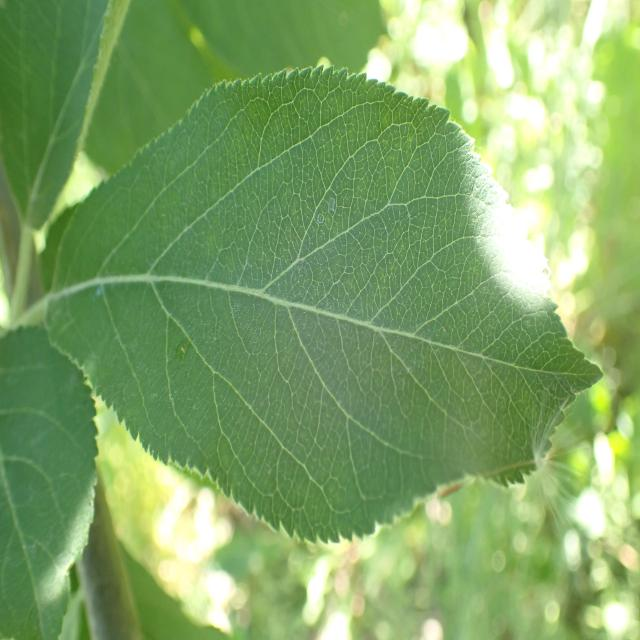healthy: (44, 64, 605, 547), (0, 324, 100, 640), (1, 0, 122, 232)
